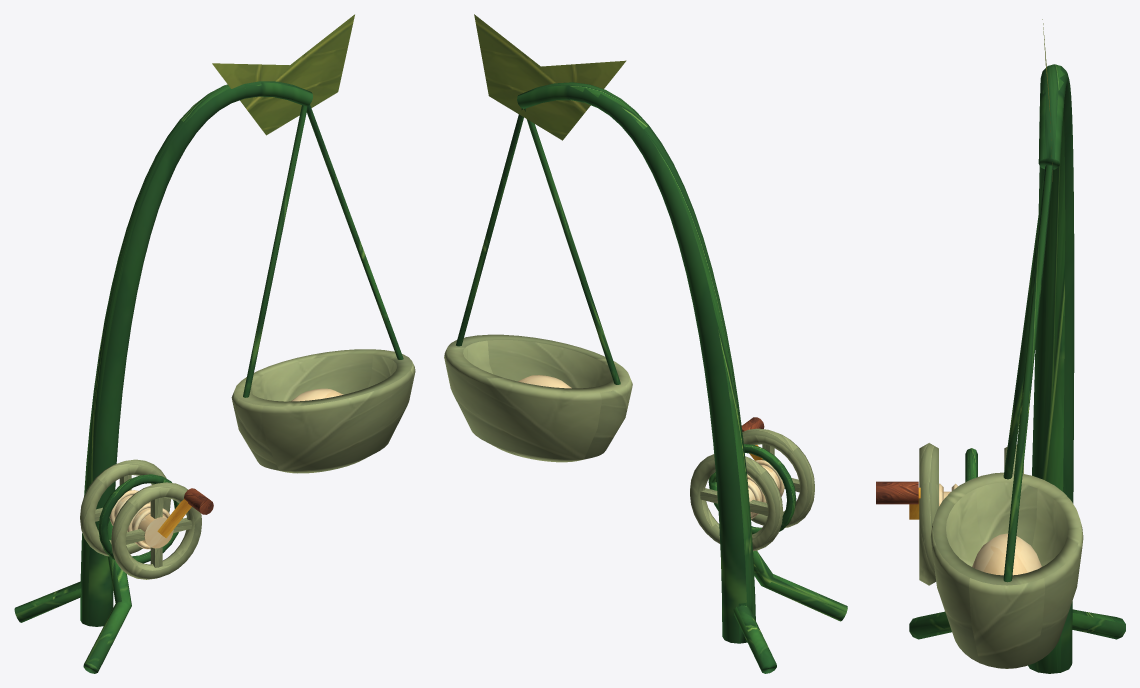
The model's file is 06_Bloomwalker参考_柔绘.glb.
The picture shows the model from 3 angles, left to right: view 1: azimuth 30°, elevation 25°; view 2: azimuth 150°, elevation 25°; view 3: azimuth 270°, elevation 25°; orthographic projection. The views are drawn at different scales.
Parts seen in each view (by area): view 1: kite_dock; view 2: kite_dock; view 3: kite_dock.
Part boxes in pixels (<box>): kite_dock: <box>14,14,415,673</box>; kite_dock: <box>444,14,847,673</box>; kite_dock: <box>876,19,1125,673</box>.
Bounding box in the file's own units: 1.59 × 2.34 × 0.7059.
2 materials, 2 textured.
